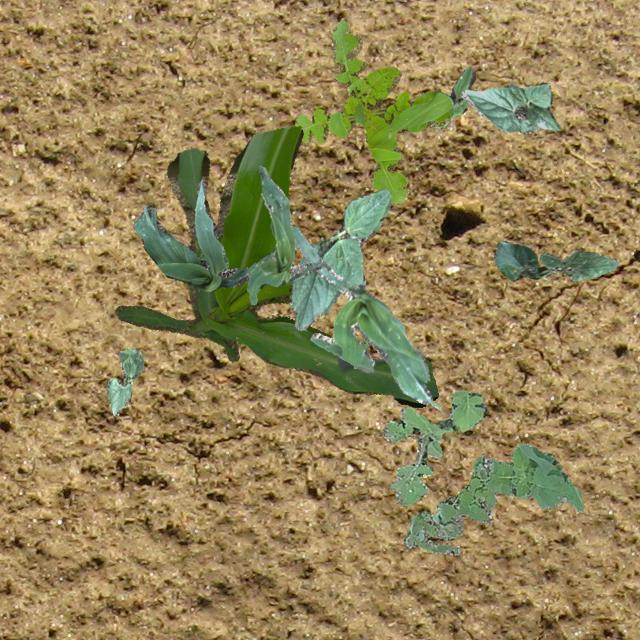crop: (115, 126, 438, 407), (290, 226, 432, 404), (132, 178, 274, 290), (288, 188, 391, 330), (246, 164, 320, 304), (492, 240, 618, 280), (461, 81, 558, 132), (106, 348, 142, 414)
weed: (294, 16, 452, 202), (402, 442, 582, 554), (380, 388, 486, 506), (432, 66, 474, 126), (359, 334, 368, 350)
